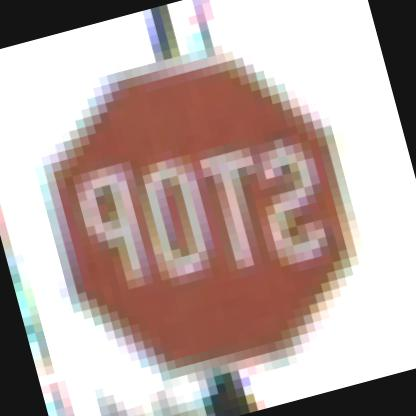stop: (6, 16, 396, 412)
